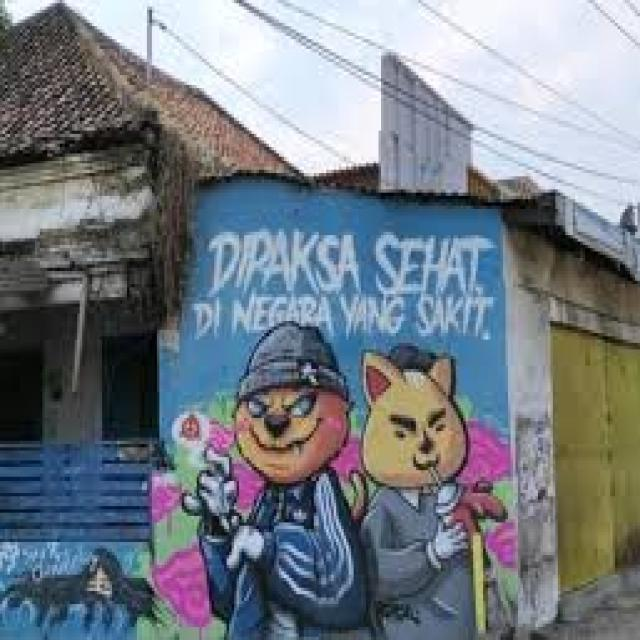-: (175, 232, 514, 640), (0, 545, 158, 629)
